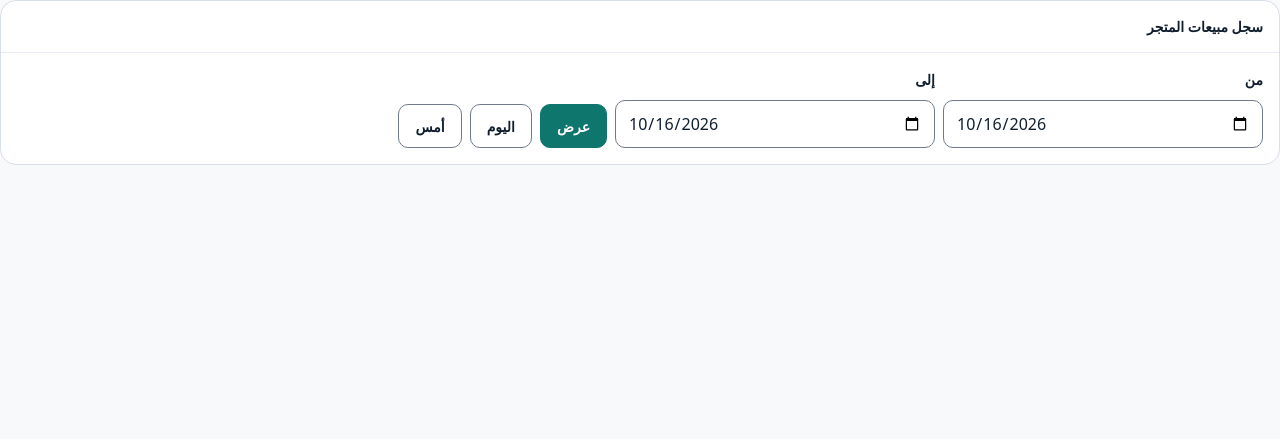
Test case: RT-542 SalesHistory — pages › keeps the rows and offers a retry when the next page fails
The width and height of the screenshot is (1280, 439).
Click the button "عرض" at (574, 126), box left=540, top=104, right=607, bottom=148
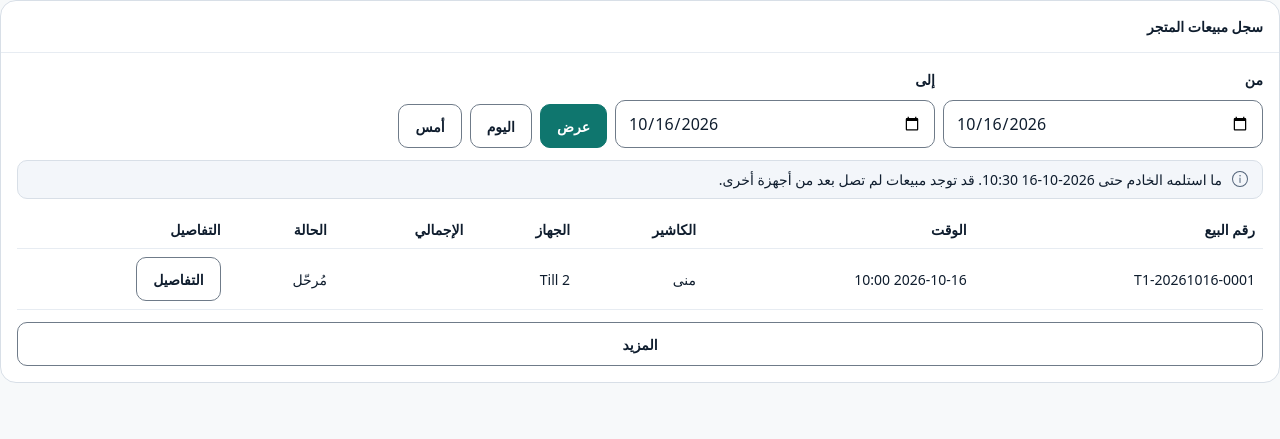
Click the button "المزيد" at (640, 344), box left=17, top=322, right=1263, bottom=366
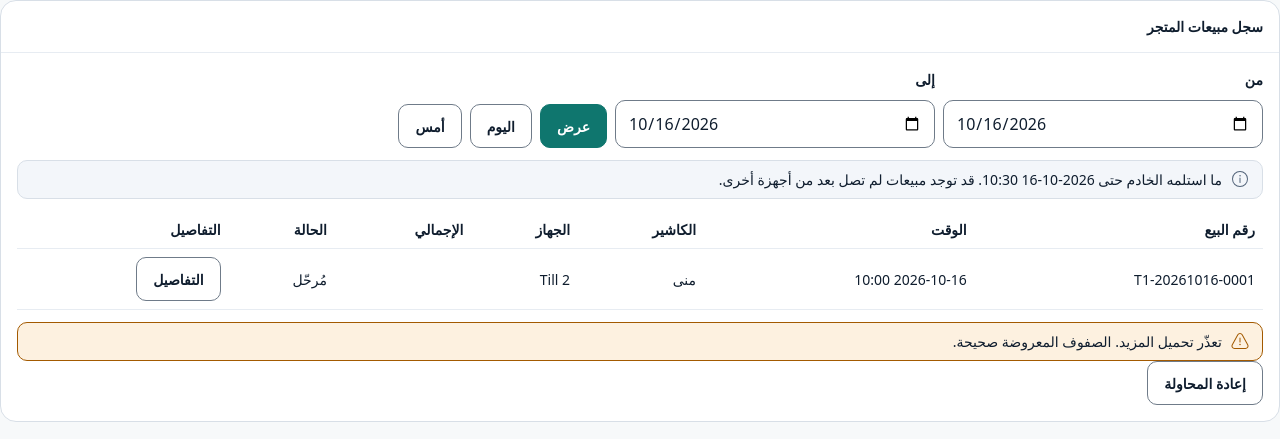
Expected: the table with test id "history-rows" shows "T1-20261016-0001", left=1134, top=270, right=1255, bottom=288
Expected: the message "تعذّر تحميل المزيد. الصفوف المعروضة صحيحة." is shown, left=17, top=322, right=1263, bottom=361
Expected: the button "إعادة المحاولة" is shown, left=1147, top=361, right=1263, bottom=405
